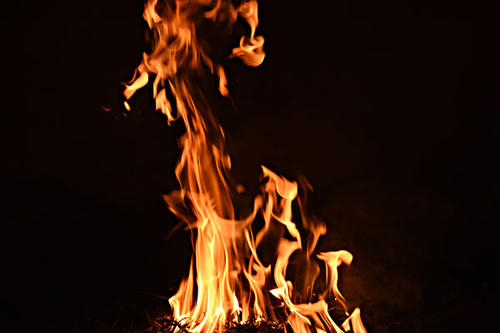fire: (146, 19, 257, 333), (264, 180, 355, 330)
